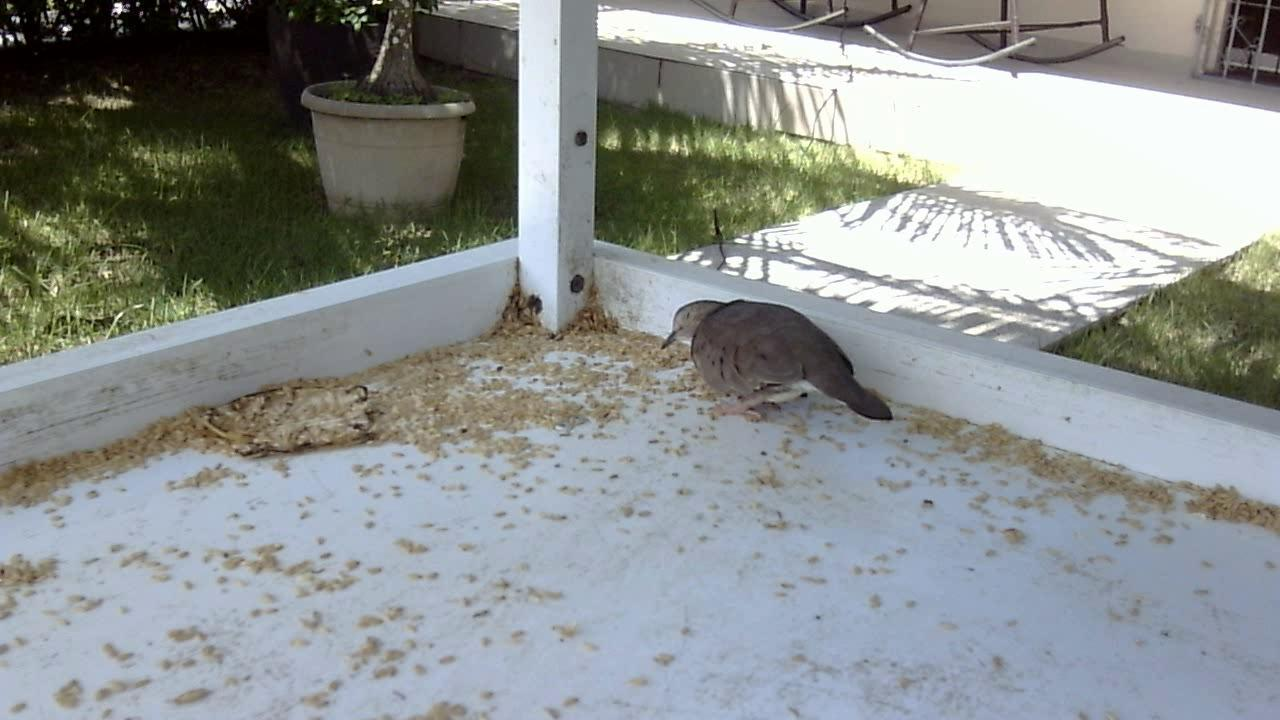rolinha: (649, 291, 904, 434)
